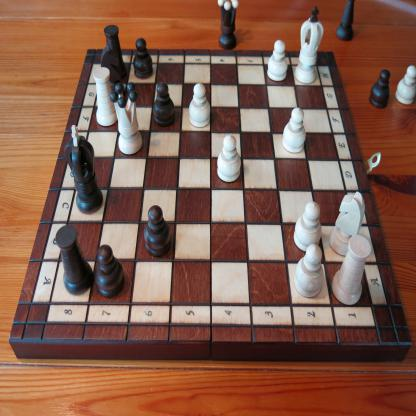black-bishop: (335, 0, 356, 43)
black-king: (64, 124, 103, 214)
black-knight: (100, 45, 126, 102)
black-pawn: (94, 244, 125, 299), (143, 204, 172, 258), (152, 82, 175, 127), (368, 68, 391, 110), (133, 36, 153, 80)
black-queen: (217, 0, 239, 51)
black-rook: (54, 224, 94, 296), (103, 23, 127, 78)
white-king: (294, 5, 324, 84)
white-knight: (328, 190, 366, 258)
white-pawn: (294, 243, 324, 298), (293, 200, 322, 253), (217, 134, 242, 183), (282, 107, 307, 153), (188, 83, 212, 128), (267, 39, 288, 82), (394, 65, 416, 106)
white-queen: (109, 81, 144, 156)
white-rook: (330, 233, 372, 306), (93, 66, 118, 126)
